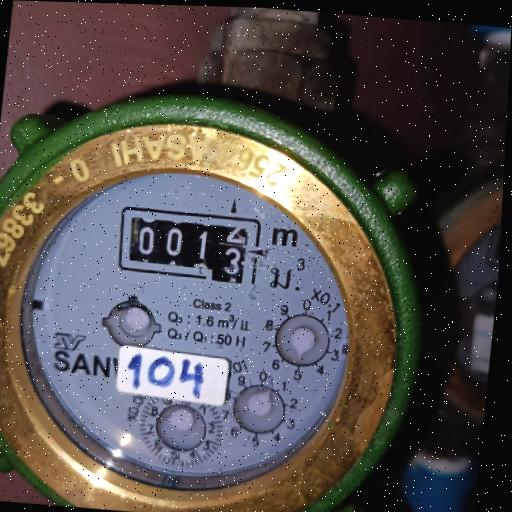0: (158, 219, 195, 268), (129, 217, 165, 264)
1: (188, 223, 217, 270)
3: (211, 224, 249, 283)
border_water_meter_number: (115, 205, 263, 285)
